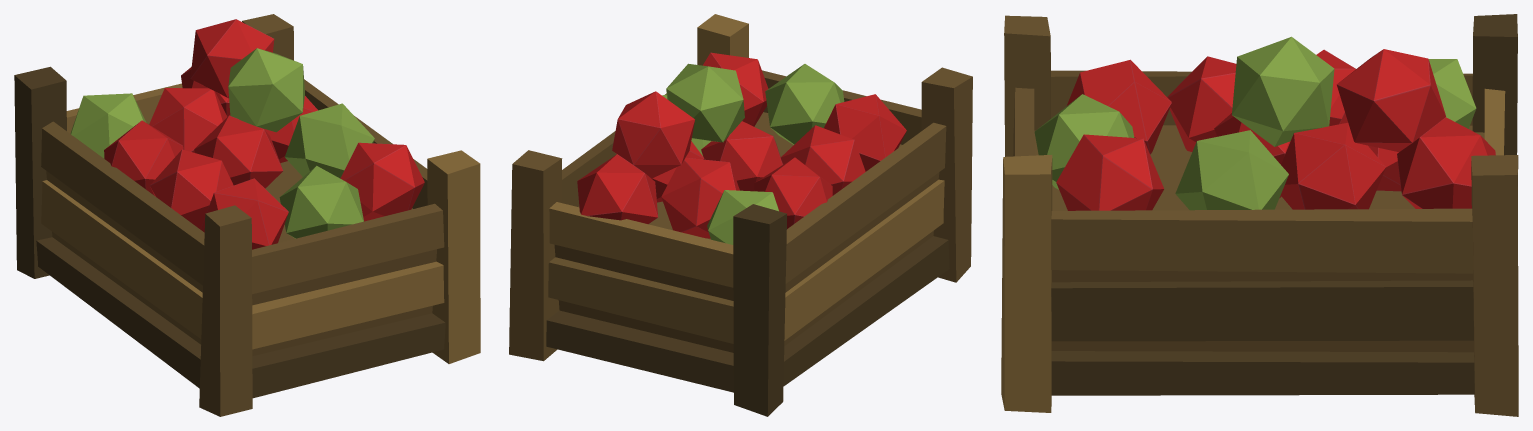
File: fruit crate.fbx
The picture shows the model from 3 angles, left to right: view 1: azimuth 30°, elevation 25°; view 2: azimuth 150°, elevation 25°; view 3: azimuth 270°, elevation 25°; orthographic projection. The views are drawn at different scales.
Visible parts, largest first — view 1: fruit-crate_LOD0; view 2: fruit-crate_LOD0; view 3: fruit-crate_LOD0.
Boxes of the visible parts, left/top/right/bottom form: fruit-crate_LOD0: left=14, top=14, right=480, bottom=416; fruit-crate_LOD0: left=509, top=14, right=972, bottom=416; fruit-crate_LOD0: left=1001, top=14, right=1518, bottom=416.
Size of what is drawn, in the model's own units: 1.6 by 1.45 by 2.17.
